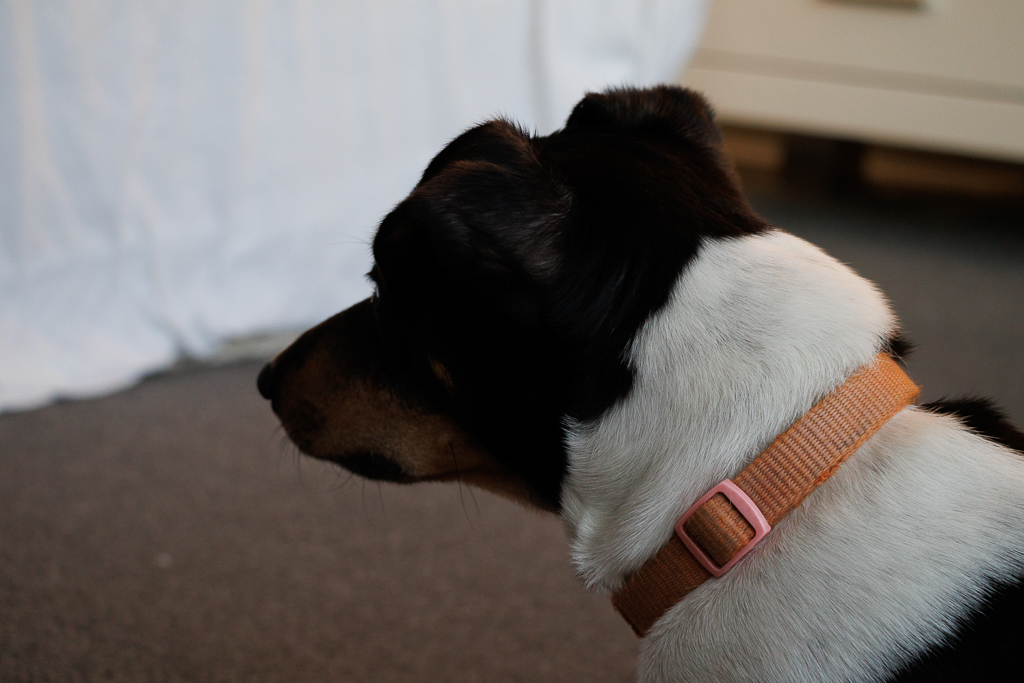Dog: (238, 72, 1024, 683)
